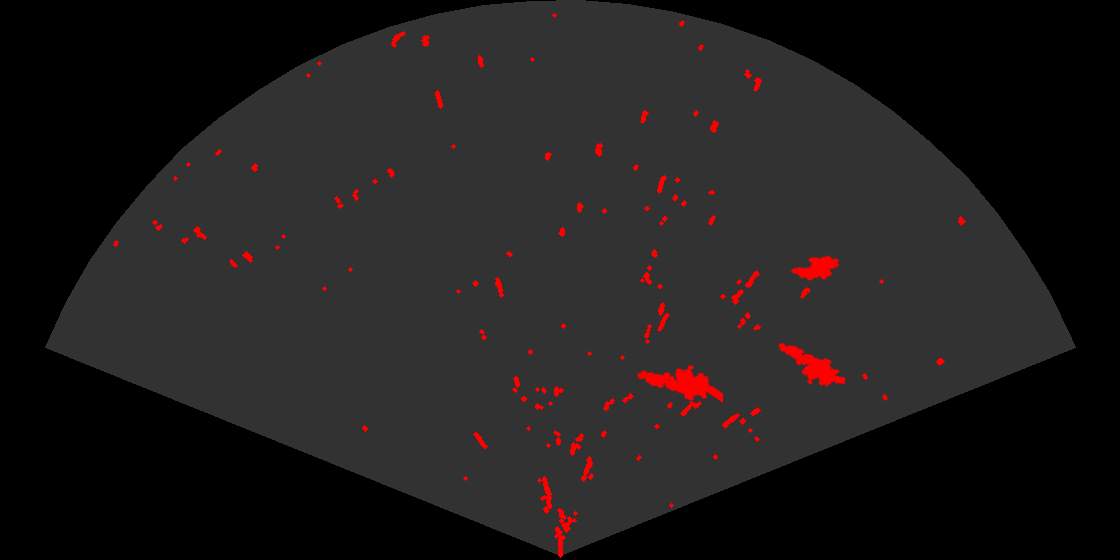AUV: (789, 254, 841, 282)
frogman: (635, 363, 723, 405), (777, 341, 845, 388)
